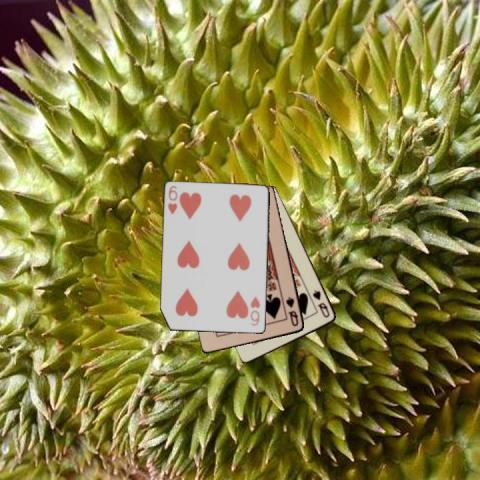6h: (164, 184, 178, 216), (248, 294, 261, 327)
Qs: (310, 287, 331, 319), (283, 294, 300, 328)
